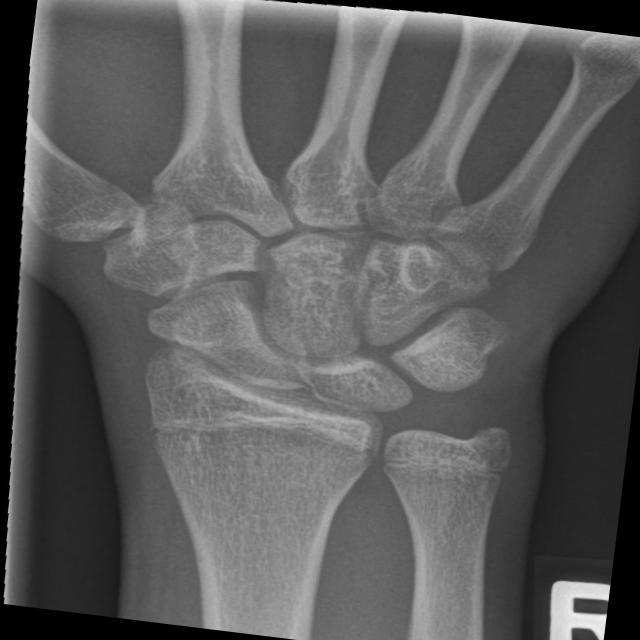fracture: (124, 383, 398, 481), (352, 434, 524, 506)
